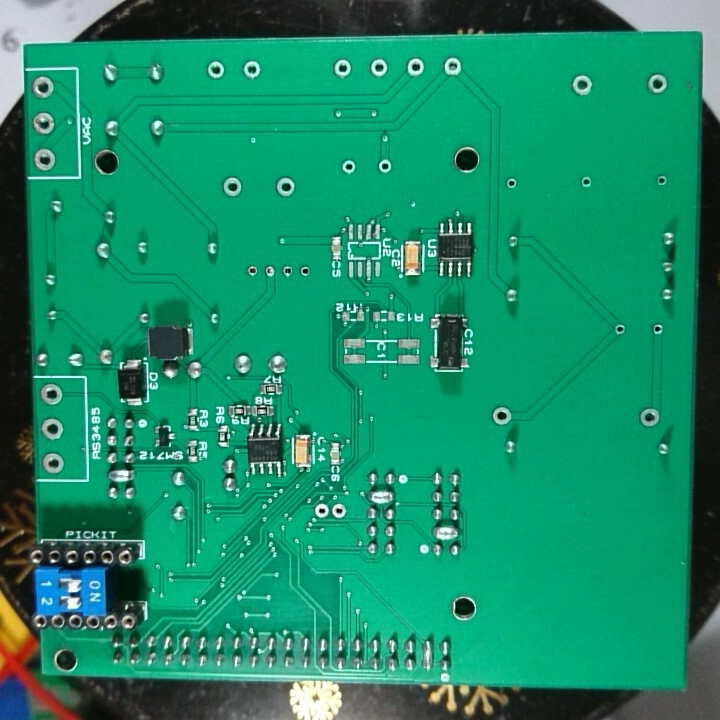F: (39, 378, 66, 412), (39, 415, 67, 444), (39, 451, 70, 477), (570, 72, 596, 103), (644, 69, 670, 100), (219, 174, 247, 202), (439, 52, 466, 81), (32, 110, 56, 139), (30, 75, 57, 100), (272, 175, 299, 200), (32, 146, 57, 172), (403, 55, 429, 80), (204, 58, 229, 84), (490, 403, 515, 428), (637, 404, 661, 430), (241, 58, 264, 85), (368, 54, 391, 80), (332, 56, 353, 82), (339, 157, 359, 180), (330, 500, 349, 523), (376, 155, 395, 178), (261, 261, 279, 284), (503, 175, 523, 194), (312, 500, 329, 521), (297, 260, 311, 282), (578, 173, 594, 192), (244, 262, 260, 281), (279, 263, 295, 282), (612, 323, 630, 339), (653, 172, 669, 189), (650, 321, 665, 339)
P: (430, 520, 461, 543), (419, 638, 435, 675), (106, 468, 138, 486), (367, 488, 398, 505)
